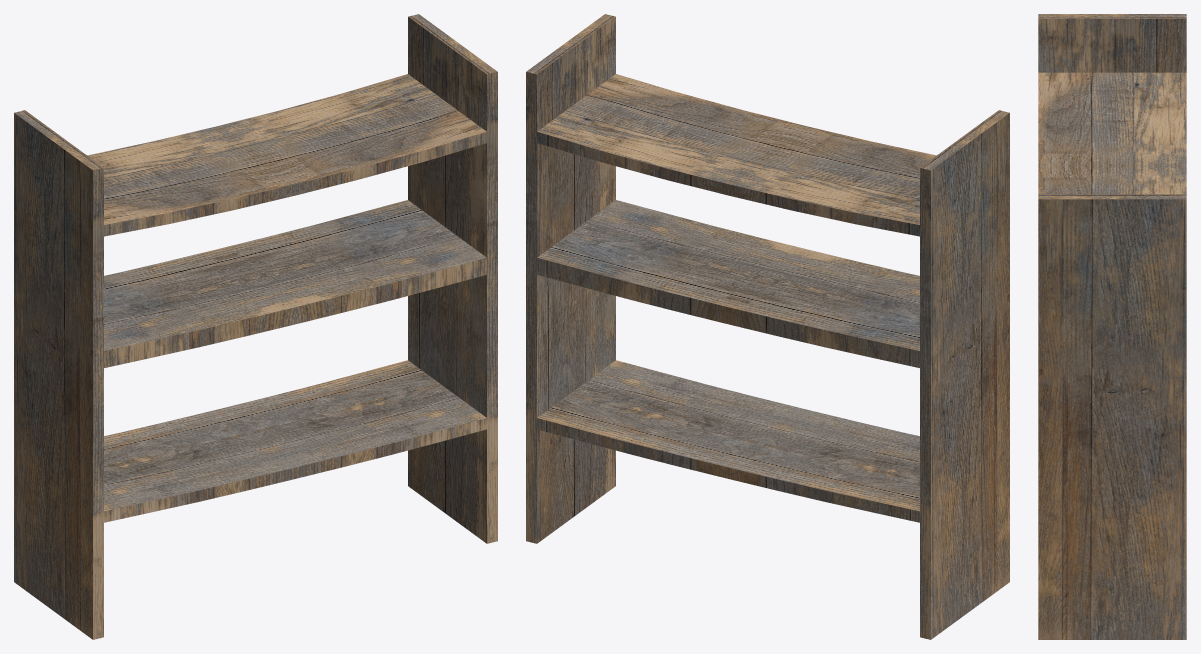
Rendered from shelf.glb.
3 views of the same model, side by side, from view 1: azimuth 30°, elevation 25°; view 2: azimuth 150°, elevation 25°; view 3: azimuth 270°, elevation 25° (orthographic). The views are drawn at different scales.
Parts seen in each view (by area): view 1: etagere; view 2: etagere; view 3: etagere.
Boxes of the visible parts, box(x1,y1,x2,y2) form: etagere: box(14, 14, 497, 639); etagere: box(526, 14, 1009, 639); etagere: box(1038, 14, 1186, 639).
Bounding box in the file's own units: 1.04 × 1.15 × 0.35.
Materials: 1 (1 with a texture image).
